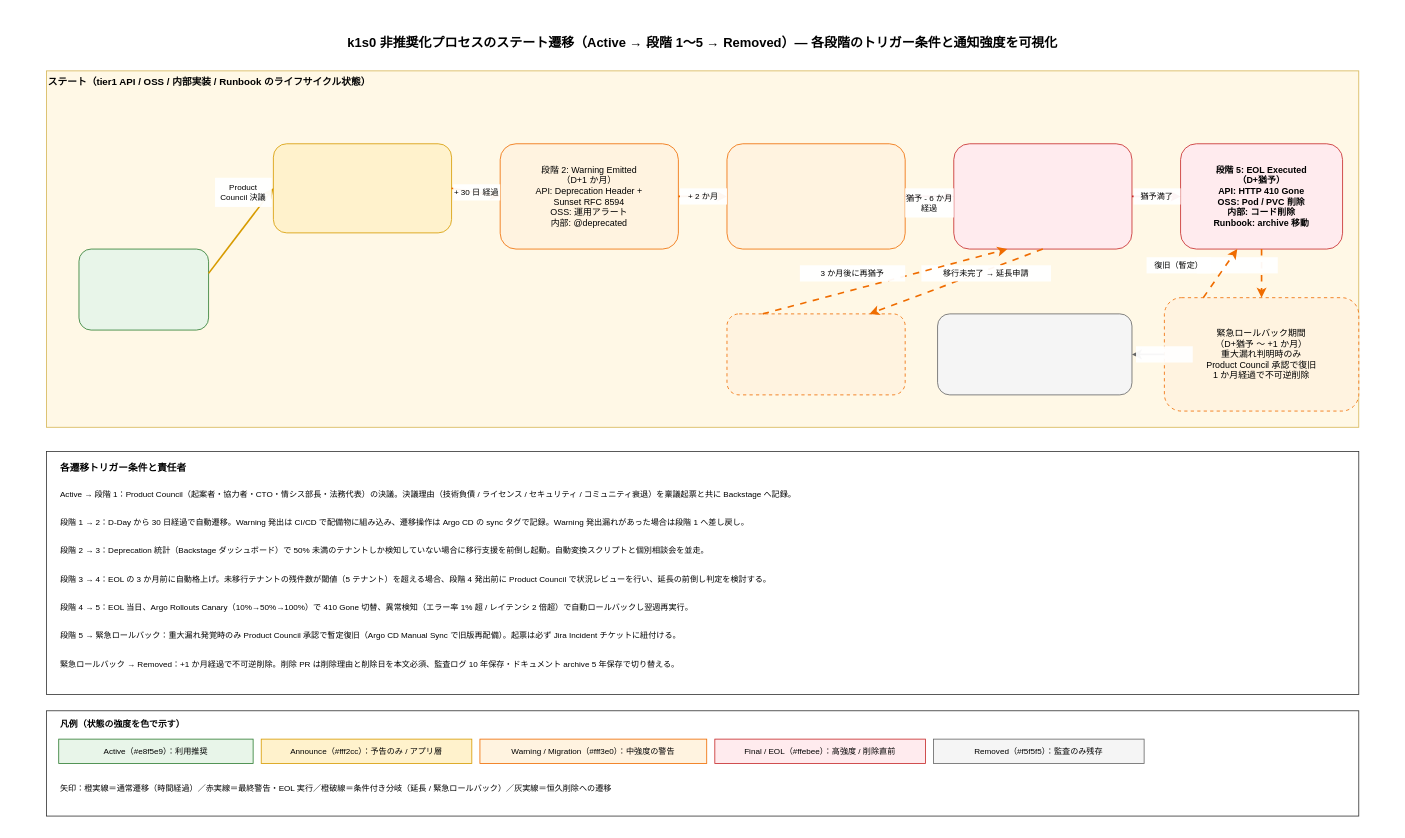
The diagram is 1405 pixels wide and 838 high, and some of its shapes have lost their labels. Here are the shapes that lost their labels. From the top down, the centre of each, then its label:
the point at 362,188: 段階 1: Announced （D-Day） Backstage バナー / Slack / メール 3 経路配信 代替案・移行ガイド同時公開
the point at 815,196: 段階 3: Migration Assist （D+3 か月） 自動変換スクリプト提供 データ変換バッチ提供 重要テナント個別相談
the point at 1042,196: 段階 4: Final Warning （D+猶予-3 か月） ログ ERROR 格上げ Backstage 赤バナー 個別電話連絡
the point at 1236,265: 重大漏れ発覚
the point at 143,289: Active （正常稼働） 利用推奨
the point at 815,354: 延長判定（最大 +3 か月） Product Council 承認 稟議再承認事項
the point at 1034,354: Removed（完全削除） Git 履歴のみ残存 監査ログ 10 年 / archive 5 年
the point at 1164,354: + 1 か月経過
